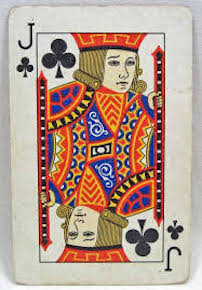JackOfClubs: (4, 1, 195, 289)
